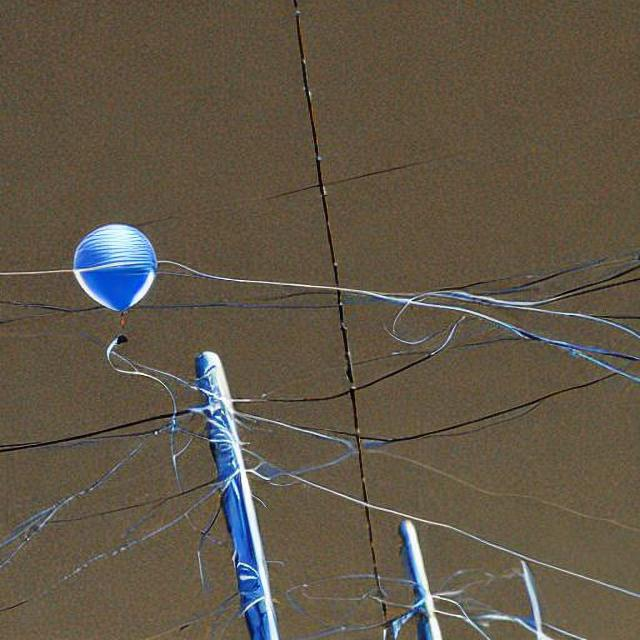balloon: (67, 217, 156, 312)
